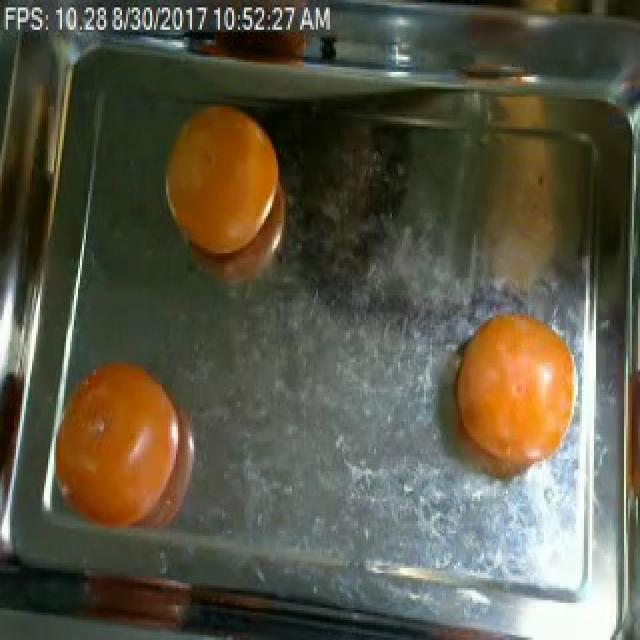Fruit: (40, 337, 212, 556), (432, 292, 586, 503), (148, 92, 288, 275), (70, 553, 208, 640)
